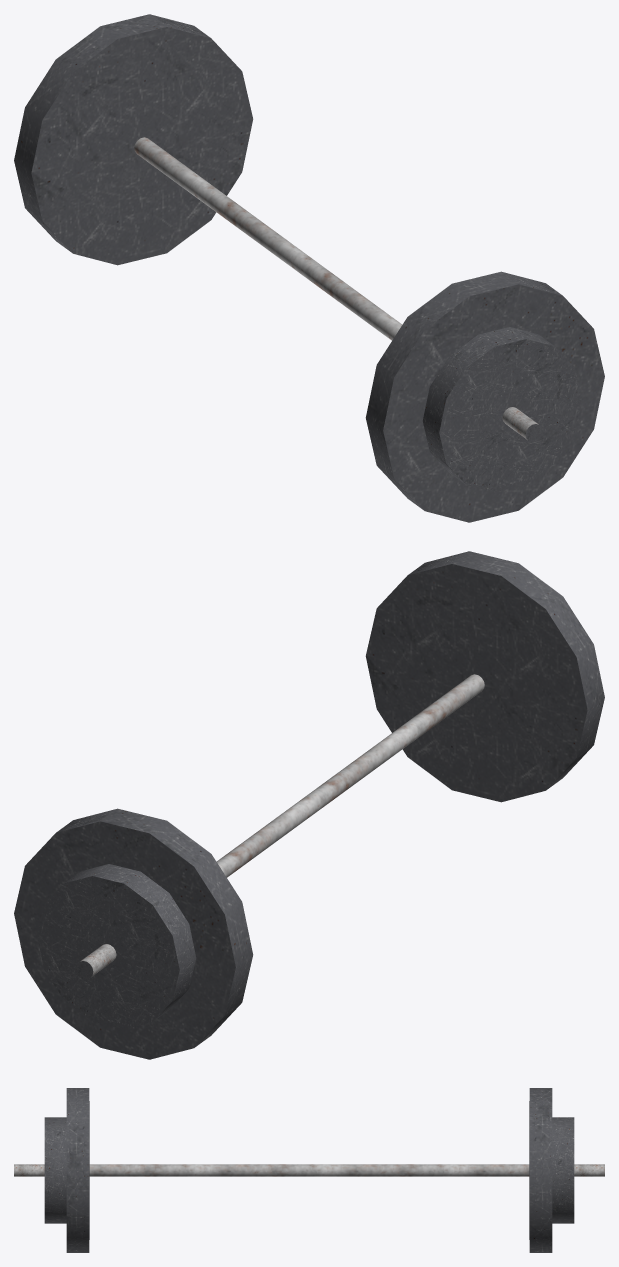
File: barbell.fbx
3 renders of one model, top to bottom at view 1: azimuth 30°, elevation 25°; view 2: azimuth 150°, elevation 25°; view 3: azimuth 270°, elevation 25°, orthographic. The views are drawn at different scales.
Parts seen in each view (by area): view 1: barbell; view 2: barbell; view 3: barbell.
Boxes of the visible parts, x1,y1,x2,y2 form: barbell: [14, 14, 604, 522]; barbell: [14, 551, 604, 1059]; barbell: [14, 1088, 604, 1252].
Bounding box in the file's own units: 80.89 × 78.86 × 283.
Materials: 1 (1 with a texture image).
